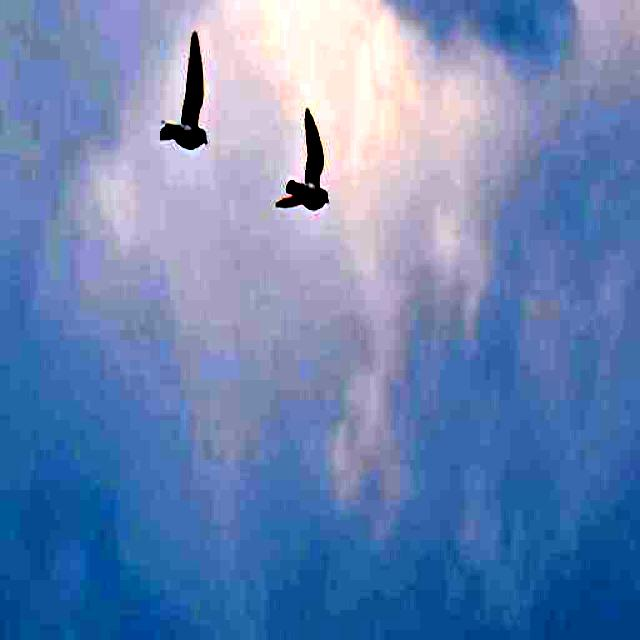airplane: (270, 84, 345, 225), (156, 22, 219, 170)
